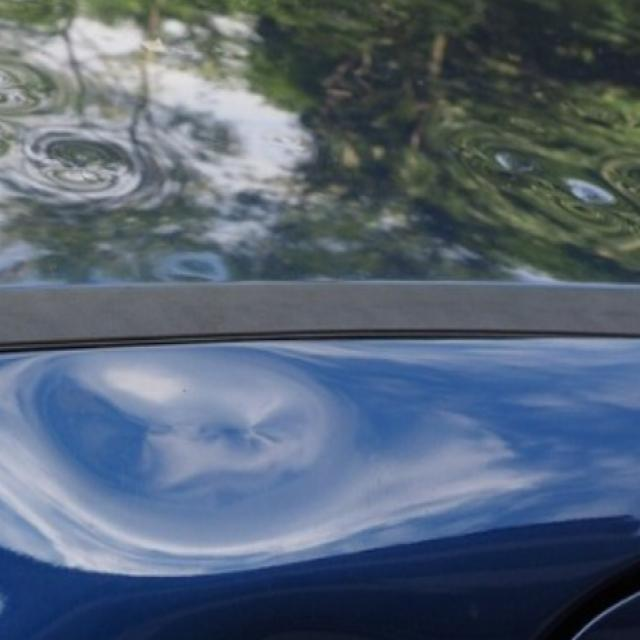dents: (4, 362, 431, 582)
